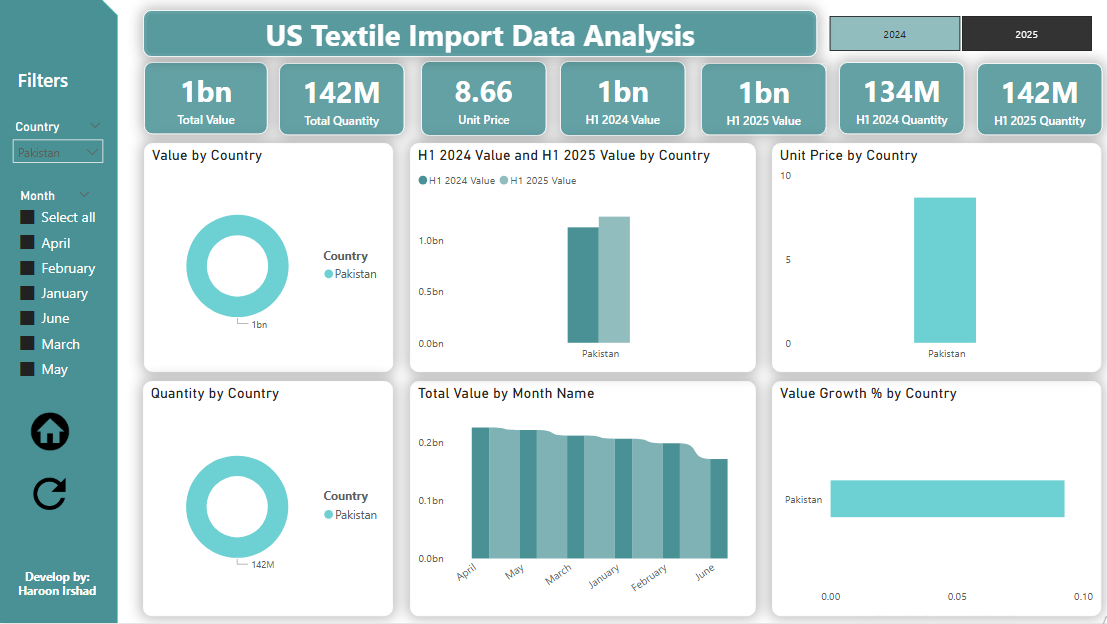

This screenshot's page, from the dashboard's own definition file:
{"tool":"powerbi","page":{"name":"Page 1","canvas":[1280,720],"ordinal":0},"visuals":[{"type":"card","fields":{"Values":["Imports.Total Quantity"]},"box":[322.4,77.3,143.6,83],"z":0},{"type":"card","fields":{"Values":["Imports.Total Value"]},"box":[167.6,75.7,142,83],"z":1000},{"type":"card","fields":{"Values":["Imports.Unit Price"]},"box":[485.2,74.1,143.6,86.2],"z":2000},{"type":"card","fields":{"Values":["Imports.H1 2024 Value"]},"box":[645.7,74.1,143.6,86.2],"z":3000},{"type":"card","fields":{"Values":["Imports.H1 2025 Value"]},"box":[807.6,77.3,143.6,83],"z":4000},{"type":"card","fields":{"Values":["Imports.H1 2024 Quantity"]},"box":[965.6,75.7,143.6,83],"z":5000},{"type":"card","fields":{"Values":["Imports.H1 2025 Quantity"]},"box":[1123.6,77.3,143.6,83],"z":6000},{"type":"ribbonChart","fields":{"Category":["Imports.Month Name"],"Y":["All_Measure.Total Value"]},"box":[472.4,442.1,397.4,269.7],"z":7000},{"type":"clusteredColumnChart","fields":{"Y":["Imports.H1 2024 Value","Imports.H1 2025 Value"],"Category":["Imports.Country"]},"box":[472.4,169.2,397.4,263.3],"z":8000},{"type":"barChart","fields":{"Y":["All_Measure.Value Growth %"],"Category":["Imports.Country"]},"box":[889,442.1,378.3,269.7],"z":9000},{"type":"clusteredColumnChart","fields":{"Category":["Imports.Country"],"Y":["All_Measure.Unit Price"]},"box":[889,169.2,378.3,263.3],"z":10000},{"type":"donutChart","title":"Value by Country","fields":{"Category":["Imports.Country"],"Y":["All_Measure.Total Value"]},"box":[167.6,169.2,285.7,263.3],"z":11000},{"type":"donutChart","title":"Quantity by Country","fields":{"Category":["Imports.Country"],"Y":["All_Measure.Total Quantity"]},"box":[166,442.1,287.3,269.7],"z":12000},{"type":"slicer","fields":{"Values":["Imports.Month Name"]},"box":[12.6,215.8,105.6,244.5],"z":13000},{"type":"slicer","fields":{"Values":["Imports.Country"]},"box":[6.9,136.6,124,73.5],"z":14000},{"type":"slicer","fields":{"Values":["Imports.Year"]},"box":[928.9,16,351.1,54.3],"z":15000},{"type":"textbox","box":[17.2,76.9,113.7,41.3],"z":16000},{"type":"image","box":[28.7,464.9,62,70],"z":17000},{"type":"image","box":[35.6,543,47.1,57.4],"z":18000},{"type":"shape","box":[166.4,15.9,774.1,54.2],"z":18001},{"type":"shape","box":[17.2,629.1,101,90.7],"z":18002}]}

Visuals, with their boxes in screenshot pixels (x1, y1, x2, y2), scaled from the page's 1280x720 canvas onto the 1107x624 screenshot:
card - Imports.Total Quantity: x1=279 y1=67 x2=403 y2=139
card - Imports.Total Value: x1=145 y1=66 x2=268 y2=138
card - Imports.Unit Price: x1=420 y1=64 x2=544 y2=139
card - Imports.H1 2024 Value: x1=558 y1=64 x2=683 y2=139
card - Imports.H1 2025 Value: x1=698 y1=67 x2=823 y2=139
card - Imports.H1 2024 Quantity: x1=835 y1=66 x2=959 y2=138
card - Imports.H1 2025 Quantity: x1=972 y1=67 x2=1096 y2=139
ribbonChart - Imports.Month Name x All_Measure.Total Value: x1=409 y1=383 x2=752 y2=617
clusteredColumnChart - Imports.H1 2024 Value x Imports.H1 2025 Value: x1=409 y1=147 x2=752 y2=375
barChart - All_Measure.Value Growth % x Imports.Country: x1=769 y1=383 x2=1096 y2=617
clusteredColumnChart - Imports.Country x All_Measure.Unit Price: x1=769 y1=147 x2=1096 y2=375
"Value by Country" donutChart: x1=145 y1=147 x2=392 y2=375
"Quantity by Country" donutChart: x1=144 y1=383 x2=392 y2=617
slicer - Imports.Month Name: x1=11 y1=187 x2=102 y2=399
slicer - Imports.Country: x1=6 y1=118 x2=113 y2=182
slicer - Imports.Year: x1=803 y1=14 x2=1106 y2=61
textbox: x1=15 y1=67 x2=113 y2=102
image: x1=25 y1=403 x2=78 y2=464
image: x1=31 y1=471 x2=72 y2=520
shape: x1=144 y1=14 x2=813 y2=61
shape: x1=15 y1=545 x2=102 y2=623
